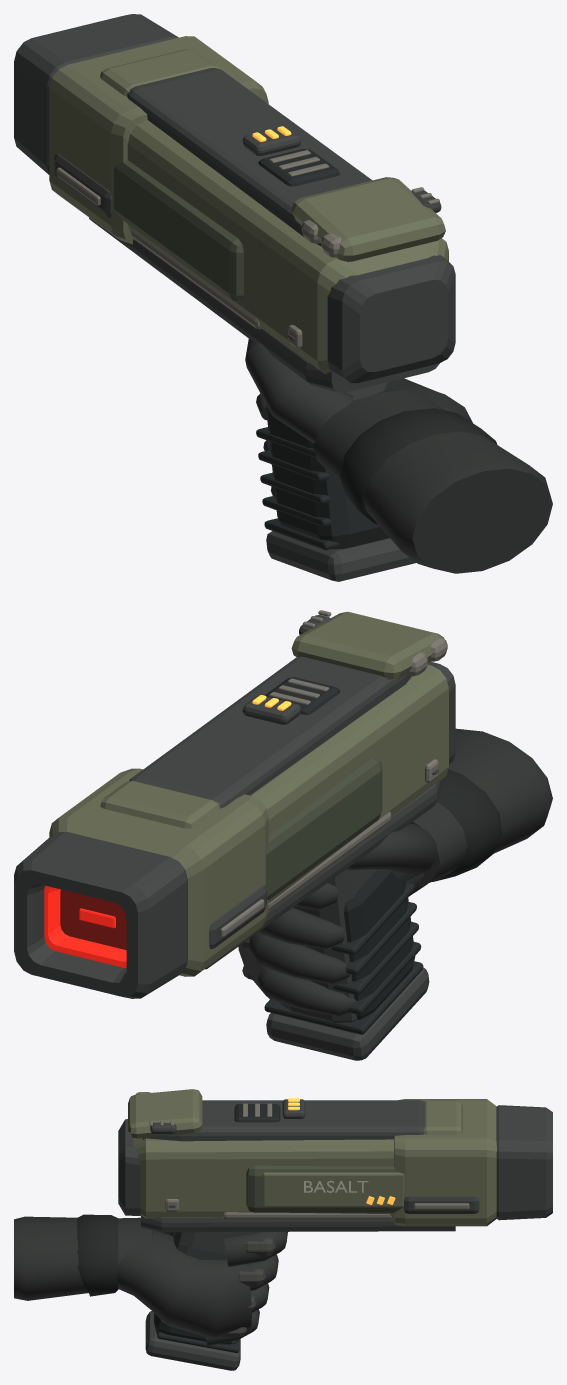
The model's file is basalt_equipped.glb.
The picture shows the model from 3 angles, top to bottom: view 1: azimuth 30°, elevation 25°; view 2: azimuth 150°, elevation 25°; view 3: azimuth 270°, elevation 25°; orthographic projection. The views are drawn at different scales.
Visible parts, largest first — view 1: Gauntlet.002, Armored chassis, Control spine, Rear graphite cap, Sliding olive armor, Opposite armor plate, Recessed optic bezel, Service cover, Grip overmold, Cuff binding.002, Wrapped thumb, Chassis underside seal (+8 smaller); view 2: Recessed optic bezel, Control spine, Sliding olive armor, Armored chassis, Gauntlet.002, Opposite armor plate, Service cover, Grip overmold, Grip heel, Cuff binding.002, Shroud arch, Chassis underside seal (+19 smaller); view 3: Armored chassis, Sliding olive armor, Wrapped palm, Control spine, Recessed optic bezel, Gauntlet.002, Inlaid nameplate, Chassis underside seal, Cuff binding.002, Service cover, Side armor plate, Grip heel (+15 smaller).
Part boxes in pixels (left/top/right/bottom): Gauntlet.002: left=313, top=390, right=552, bottom=573; Armored chassis: left=127, top=120, right=448, bottom=374; Control spine: left=127, top=68, right=372, bottom=261; Rear graphite cap: left=327, top=255, right=455, bottom=383; Sliding olive armor: left=49, top=36, right=268, bottom=244; Opposite armor plate: left=114, top=160, right=243, bottom=301; Recessed optic bezel: left=14, top=14, right=178, bottom=174; Service cover: left=291, top=177, right=445, bottom=261; Grip overmold: left=265, top=380, right=400, bottom=549; Cuff binding.002: left=340, top=408, right=497, bottom=524; Wrapped thumb: left=245, top=339, right=353, bottom=443; Chassis underside seal: left=89, top=217, right=439, bottom=392; Recessed optic bezel: left=14, top=832, right=187, bottom=998; Control spine: left=129, top=656, right=411, bottom=808; Sliding olive armor: left=49, top=768, right=268, bottom=976; Armored chassis: left=250, top=664, right=448, bottom=902; Gauntlet.002: left=410, top=728, right=552, bottom=887; Opposite armor plate: left=266, top=758, right=382, bottom=900; Service cover: left=291, top=611, right=444, bottom=679; Grip overmold: left=344, top=869, right=415, bottom=1019; Grip heel: left=266, top=967, right=429, bottom=1060; Cuff binding.002: left=432, top=769, right=501, bottom=881; Shroud arch: left=100, top=781, right=220, bottom=828; Chassis underside seal: left=205, top=779, right=442, bottom=969; Armored chassis: left=133, top=1137, right=393, bottom=1218; Sliding olive armor: left=394, top=1099, right=496, bottom=1226; Wrapped palm: left=116, top=1230, right=251, bottom=1338; Control spine: left=142, top=1100, right=425, bottom=1141; Recessed optic bezel: left=496, top=1105, right=552, bottom=1220; Gauntlet.002: left=14, top=1216, right=153, bottom=1300; Inlaid nameplate: left=263, top=1172, right=404, bottom=1207; Chassis underside seal: left=141, top=1215, right=455, bottom=1232; Cuff binding.002: left=77, top=1214, right=118, bottom=1296; Service cover: left=128, top=1089, right=202, bottom=1138; Side armor plate: left=246, top=1165, right=402, bottom=1212; Grip heel: left=145, top=1311, right=240, bottom=1370.
Bounding box in the file's own units: 0.0817 × 0.1614 × 0.31.
